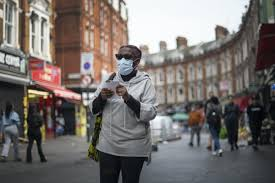mask: (111, 39, 146, 84), (226, 93, 235, 106)
